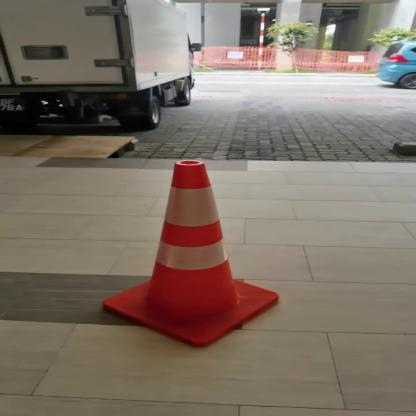cone: (102, 153, 283, 353)
